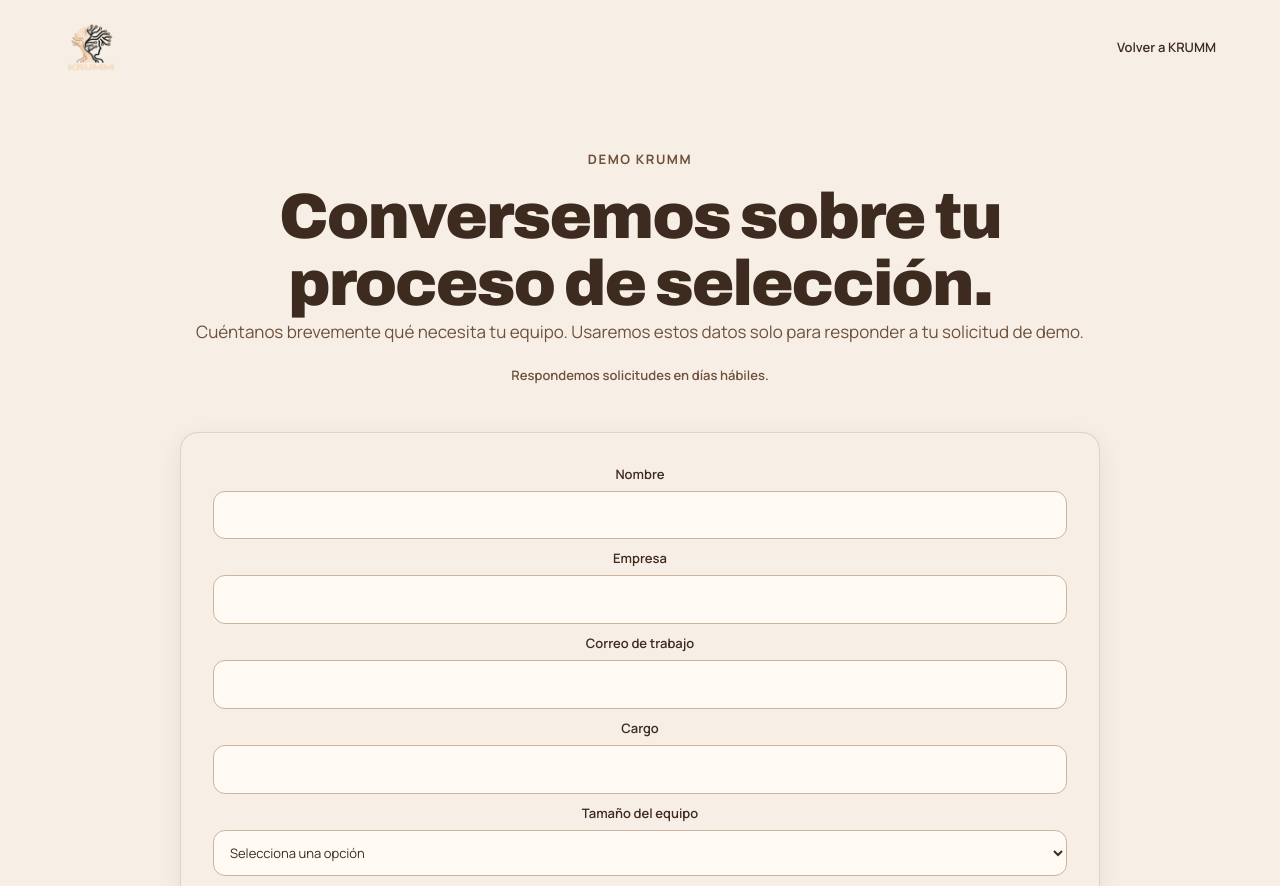
DemoRequestPage › renders field errors returned by the server and keeps the form editable
In the field labelled "Nombre": {"x": 640, "y": 515} [213,491,1067,539], type "Ada Lovelace"
In the field labelled "Correo de trabajo": {"x": 640, "y": 684} [213,660,1067,709], type "ada@analytical.example"
In the field labelled "Empresa": {"x": 640, "y": 600} [213,575,1067,624], type "Analytical Engines Ltd"
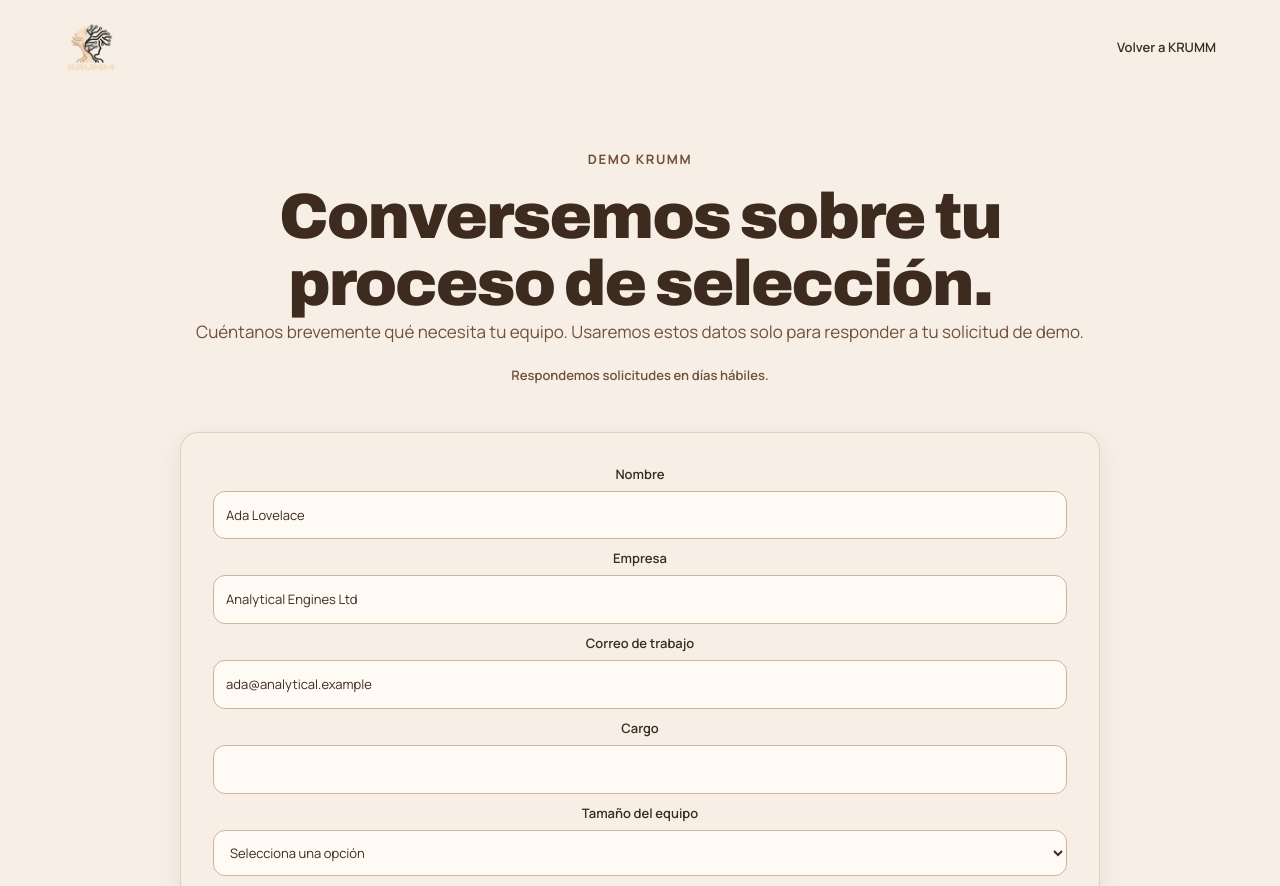
In the field labelled "Cargo": {"x": 640, "y": 769} [213,745,1067,794], type "Engineering Lead"
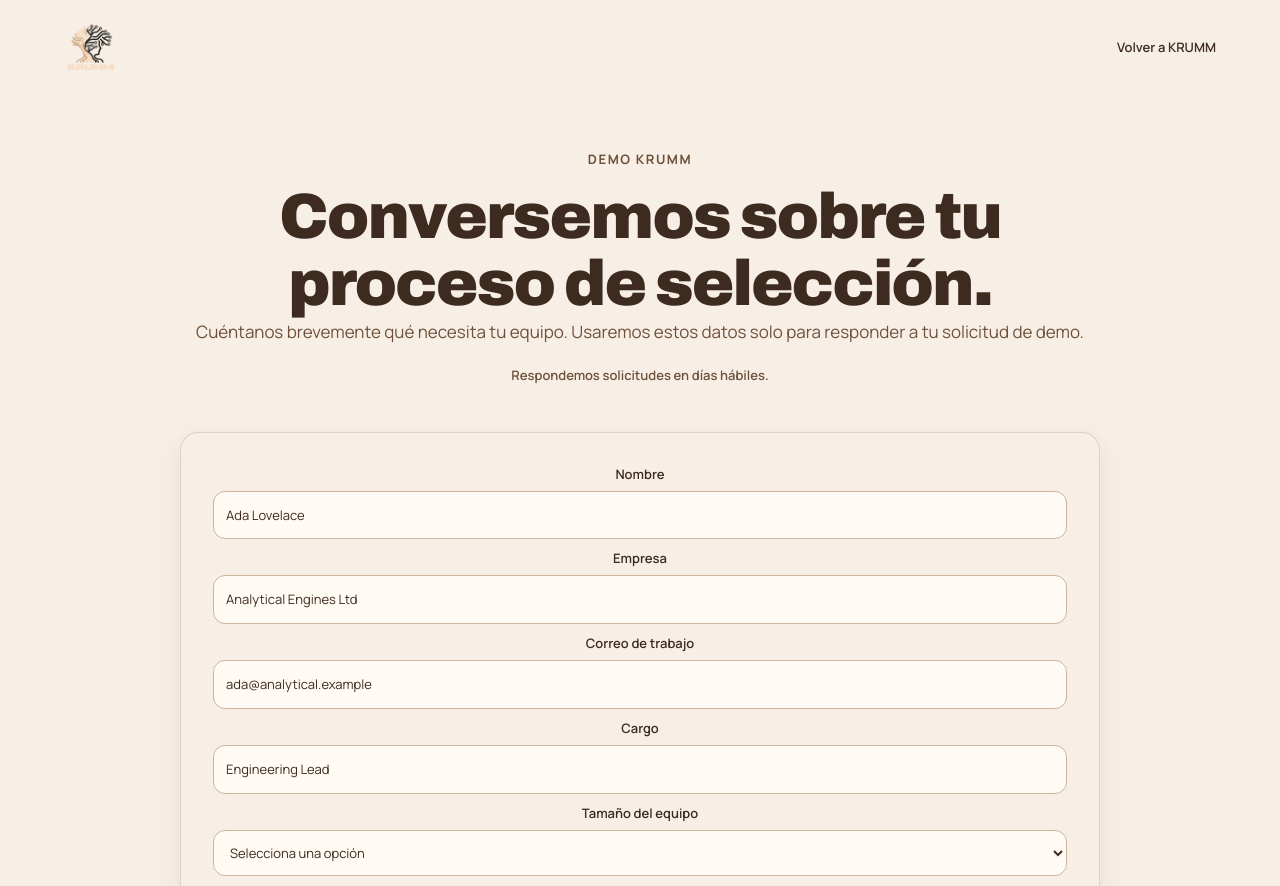
Select "11–50 personas" in the dropdown labelled "Tamaño del equipo": {"x": 640, "y": 853} [213,830,1067,876]
(page scrolled)
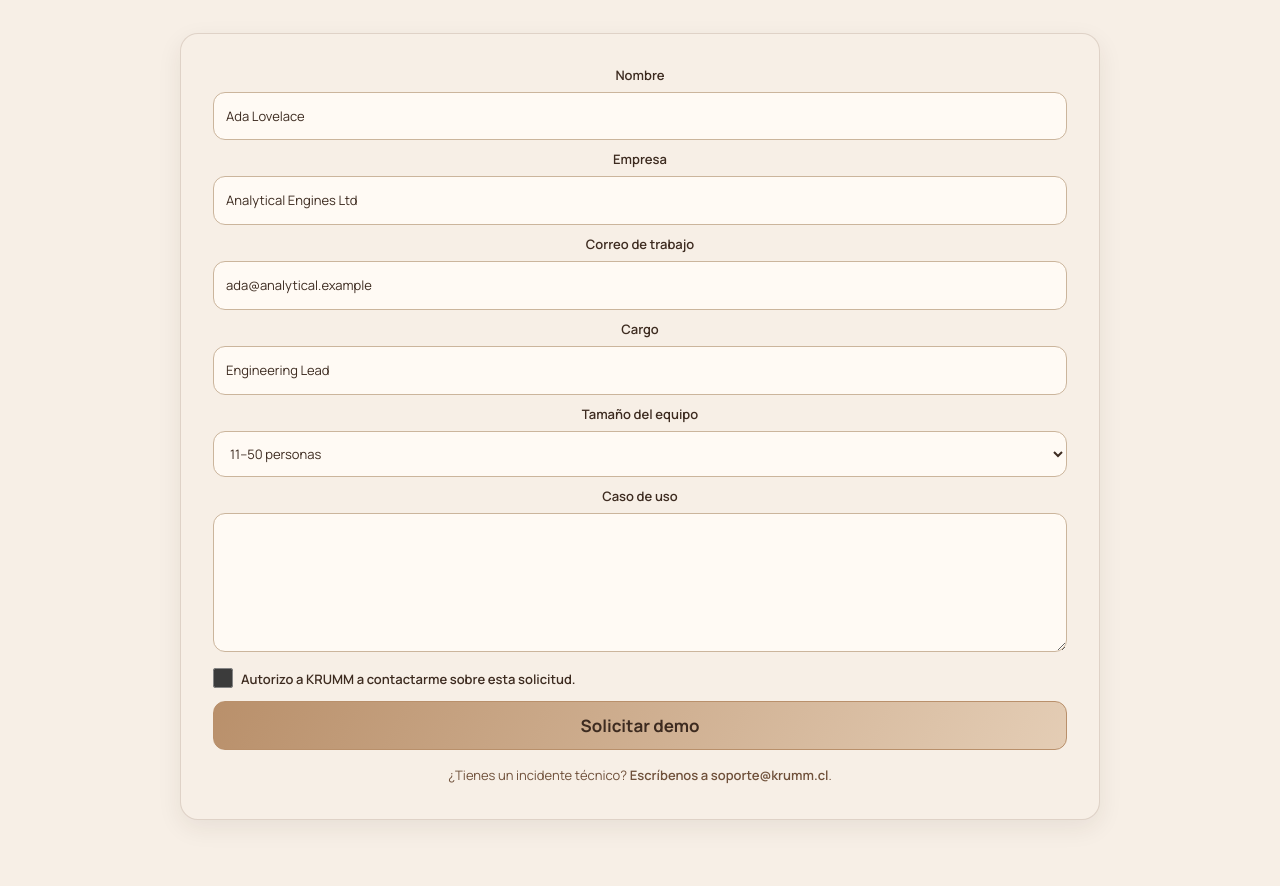
In the text box labelled "Caso de uso": {"x": 640, "y": 582} [213,513,1067,652], type "Structured hiring assessment."
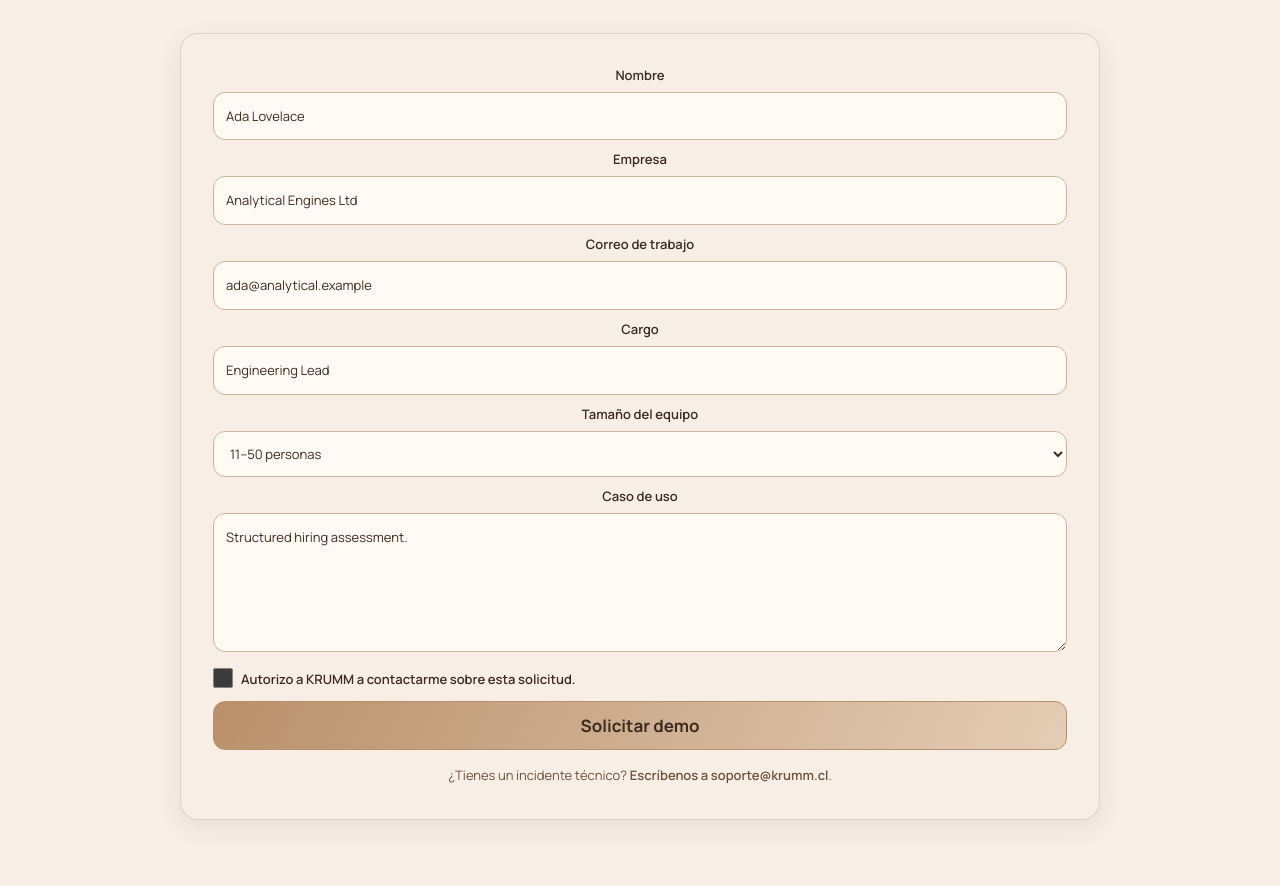
Click the checkbox labelled "Autorizo a KRUMM a contactarme sobre esta solicitud.": {"x": 223, "y": 678} [213,668,233,688]
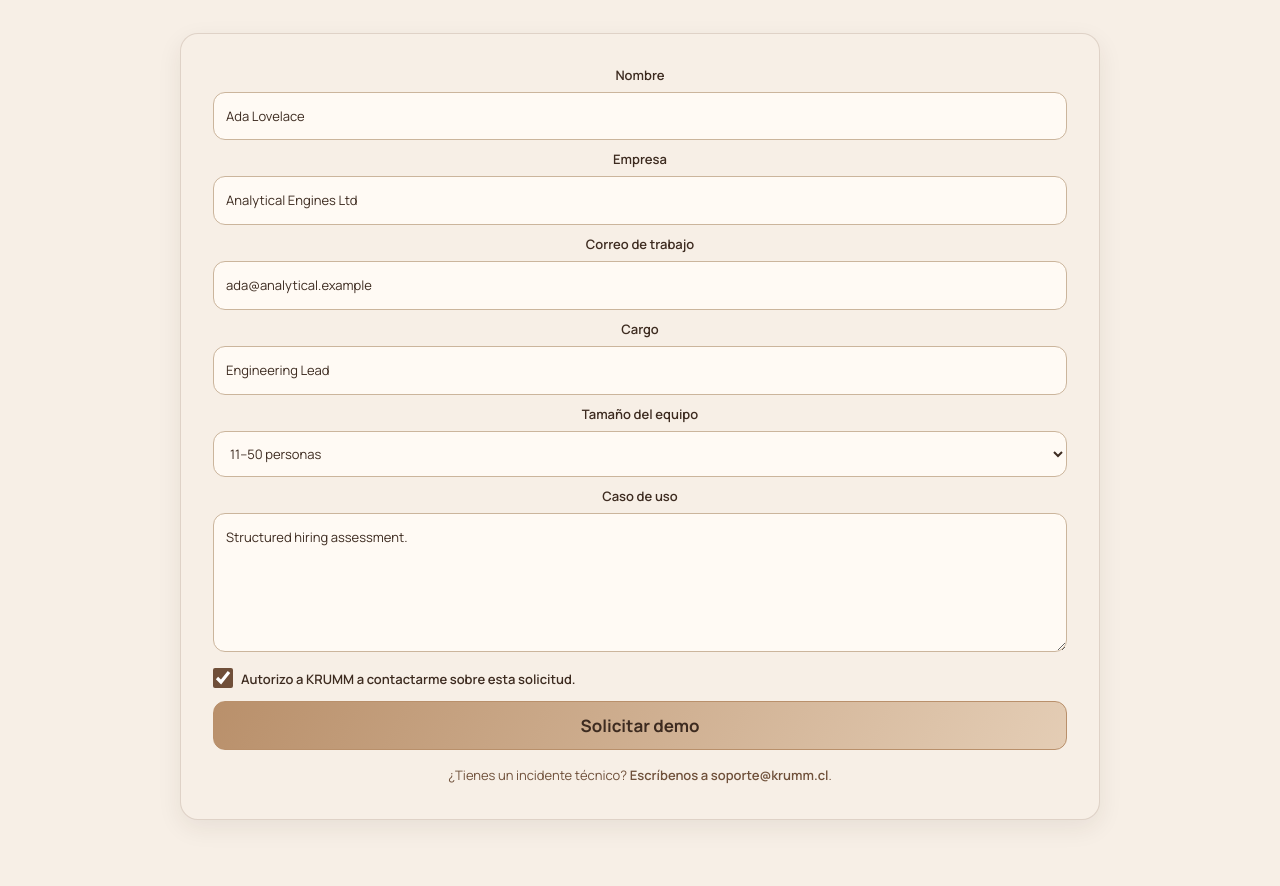
Click the button "Solicitar demo": {"x": 640, "y": 726} [213,701,1067,750]
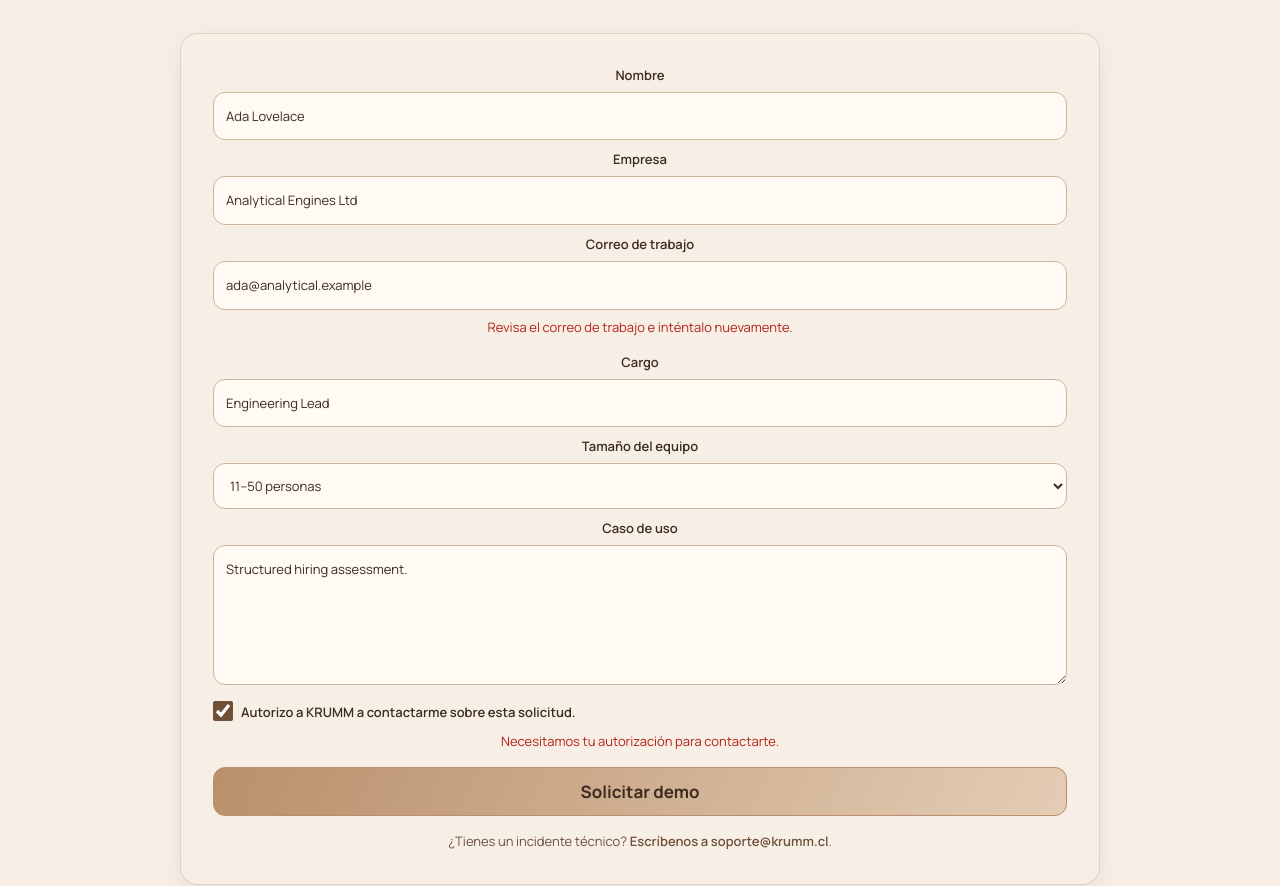
Expected: the field labelled "Correo de trabajo" is enabled, [213,261,1067,310]
Result: the text "Revisa el correo de trabajo e inténtalo nuevamente." is shown at [488,318,792,336]
